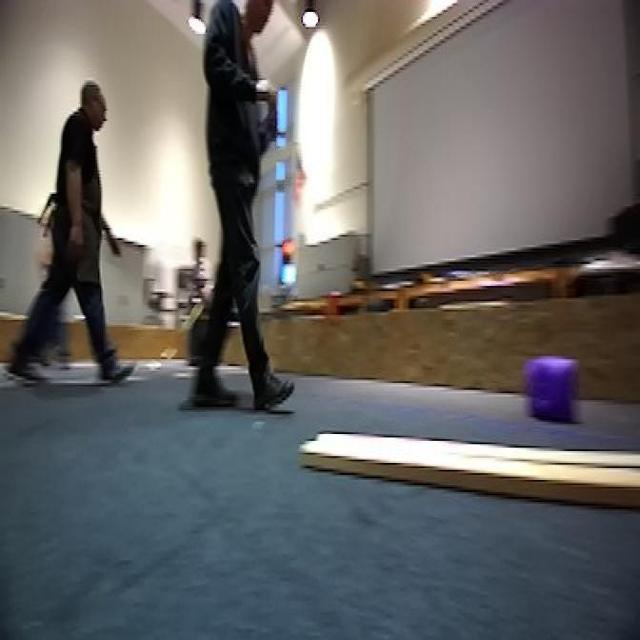frc_cube: (525, 354, 581, 429)
